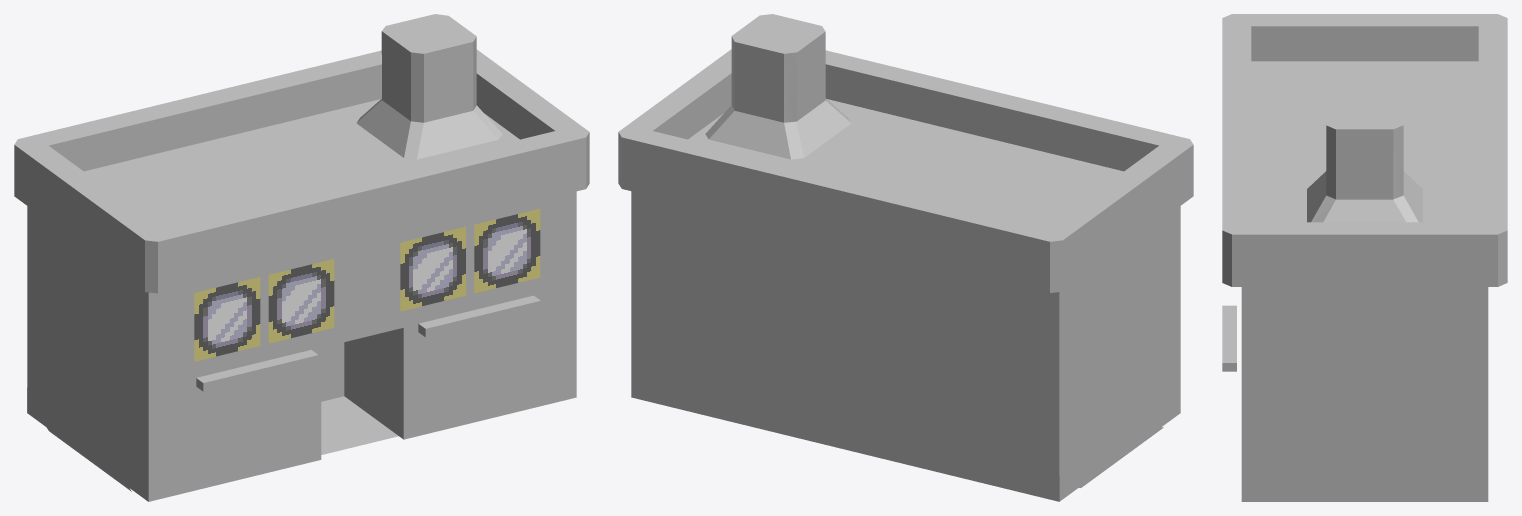
File: LabPokemon.fbx
3 renders of one model, left to right at view 1: azimuth 30°, elevation 25°; view 2: azimuth 150°, elevation 25°; view 3: azimuth 270°, elevation 25°, orthographic.
Visible parts, largest first — view 1: Oak_Pokemon_Research_Lab; view 2: Oak_Pokemon_Research_Lab; view 3: Oak_Pokemon_Research_Lab.
Boxes of the visible parts, left/top/right/bottom form: Oak_Pokemon_Research_Lab: left=14, top=14, right=589, bottom=501; Oak_Pokemon_Research_Lab: left=618, top=14, right=1193, bottom=501; Oak_Pokemon_Research_Lab: left=1222, top=14, right=1507, bottom=501.
Size of the model in its own units: 108 by 79.58 by 59.
